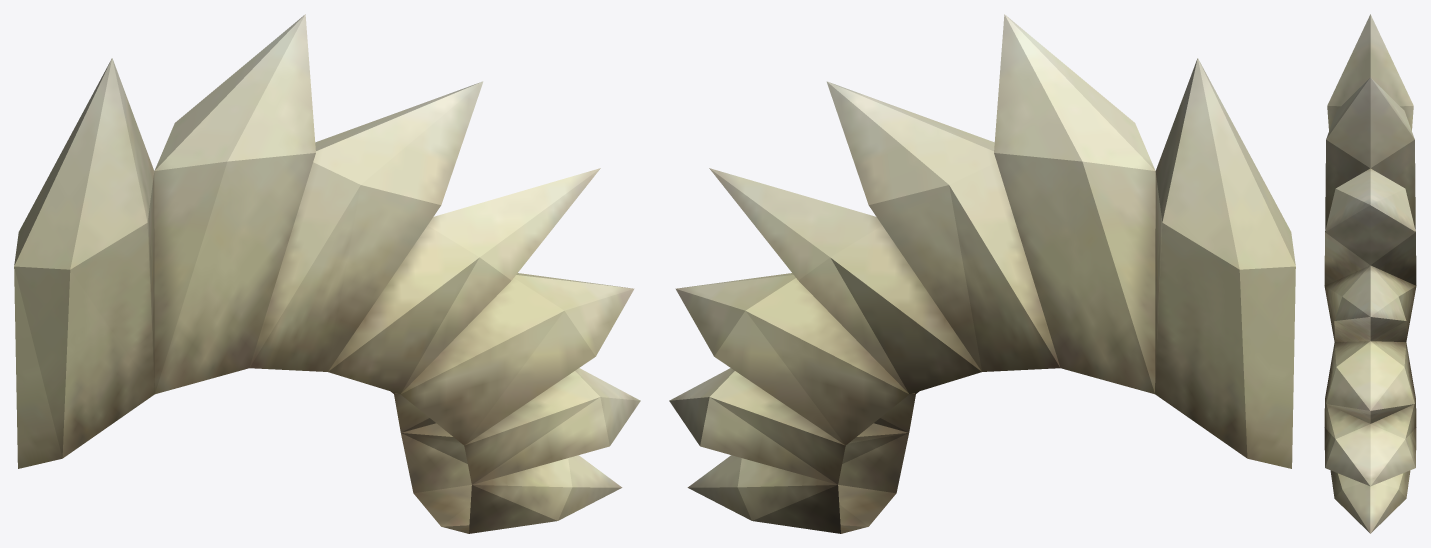
Rendered from Panda_mohawk.obj.
3 views of the same model, side by side, from view 1: azimuth 30°, elevation 25°; view 2: azimuth 150°, elevation 25°; view 3: azimuth 270°, elevation 25° (orthographic). The views are drawn at different scales.
Visible parts, largest first — view 1: Panda_mohawk_tri; view 2: Panda_mohawk_tri; view 3: Panda_mohawk_tri.
Part boxes in pixels (left/top/right/bottom): Panda_mohawk_tri: left=14, top=14, right=640, bottom=533; Panda_mohawk_tri: left=669, top=14, right=1295, bottom=533; Panda_mohawk_tri: left=1324, top=14, right=1416, bottom=533.
Bounding box in the file's own units: 0.4612 × 0.4004 × 0.0906.
1 material, 1 textured.
